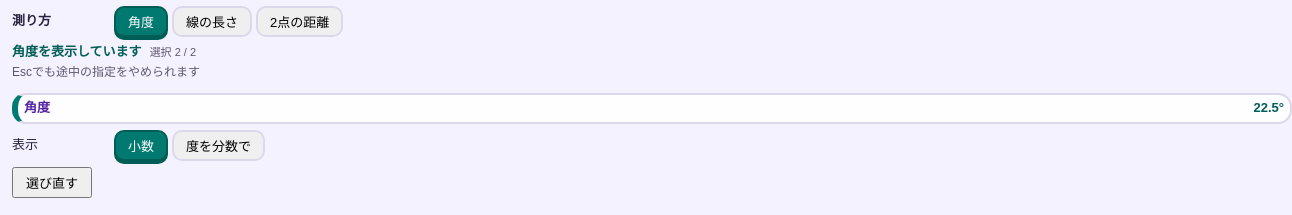
Test case: 測る道具の下部パネル › 角度は小数を既定にし、1回押すと度の分数と小数を併記する
Expected: the text "22.5°" is shown, [1254,99,1284,118]
Click the button "度を分数で" at (218, 146), box [172,130,265,161]
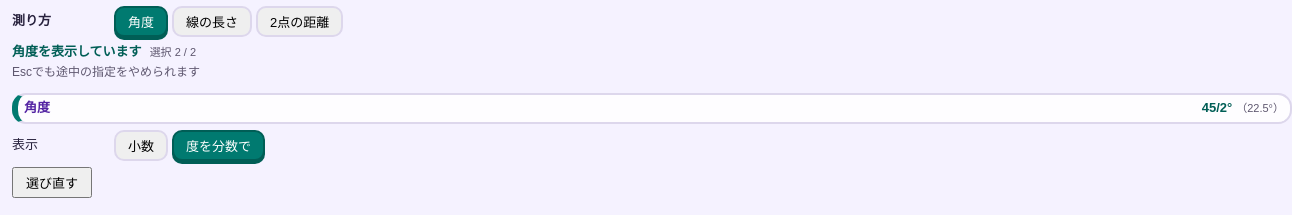
Expected: the text "22.5°" is shown, [1247,102,1273,114]
Expected: the text "45/2°" is shown, [1202,99,1232,118]
